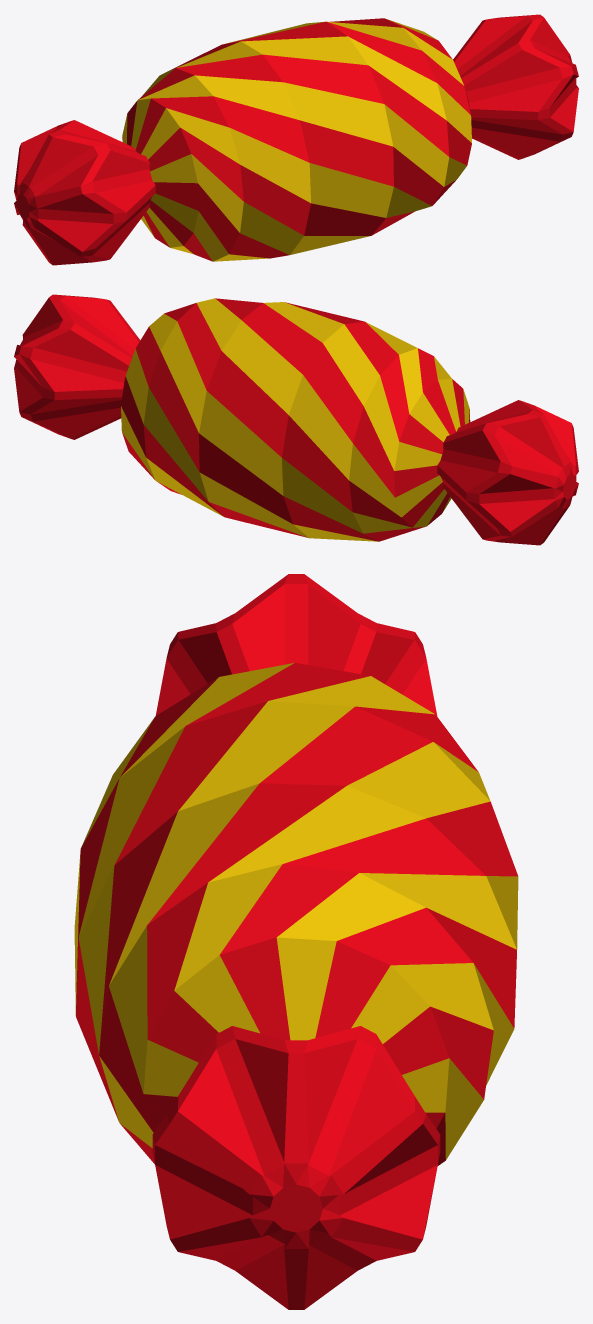
File: Candy 2.fbx
3 renders of one model, top to bottom at view 1: azimuth 30°, elevation 25°; view 2: azimuth 150°, elevation 25°; view 3: azimuth 270°, elevation 25°, orthographic. The views are drawn at different scales.
Visible parts, largest first — view 1: Candy 2; view 2: Candy 2; view 3: Candy 2.
Part boxes in pixels (<box>): Candy 2: <box>14,14,578,265</box>; Candy 2: <box>14,294,578,545</box>; Candy 2: <box>74,574,518,1309</box>.
Size of the model in its own units: 250 by 87.98 by 87.98.
